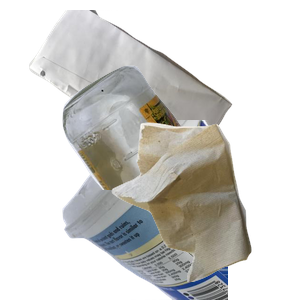glass: (60, 63, 300, 243)
paper: (27, 10, 252, 187)
plastic: (60, 120, 300, 300)
trash: (109, 120, 300, 300)
